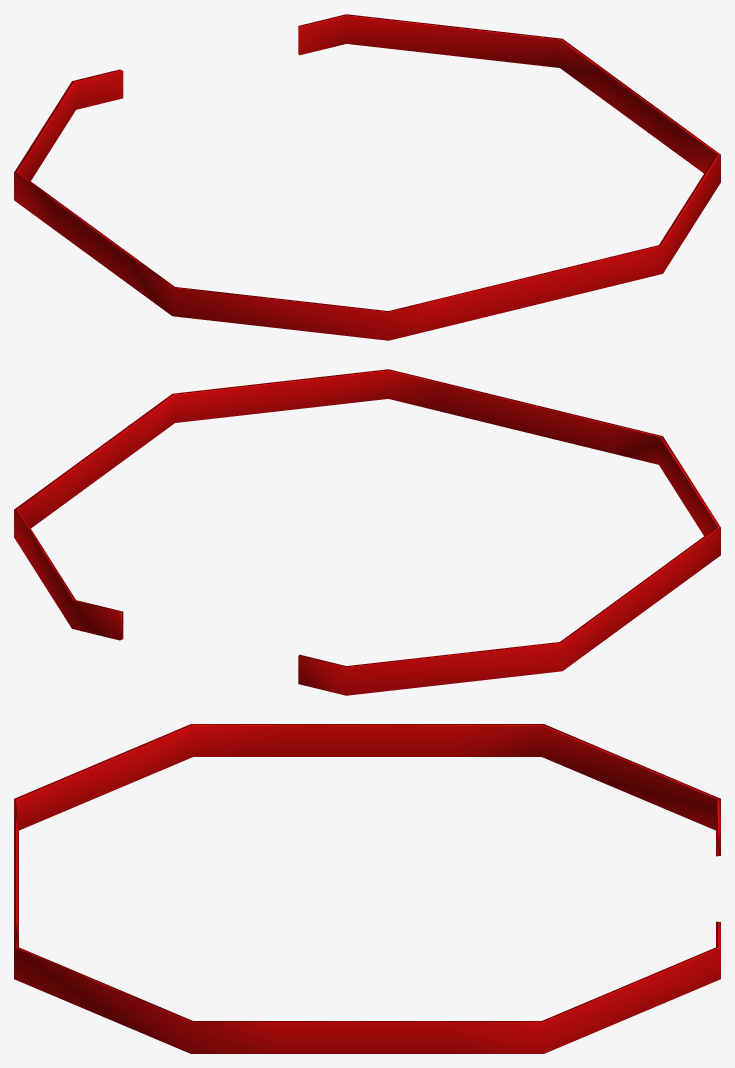
The model's file is Entrance_Lights.fbx.
3 views of the same model, one above another, from view 1: azimuth 30°, elevation 25°; view 2: azimuth 150°, elevation 25°; view 3: azimuth 270°, elevation 25° (orthographic). The views are drawn at different scales.
Visible parts, largest first — view 1: Entrance_Lights; view 2: Entrance_Lights; view 3: Entrance_Lights.
Part boxes in pixels (x1,y1,x2,y2): Entrance_Lights: (14, 14, 720, 340); Entrance_Lights: (14, 369, 720, 695); Entrance_Lights: (14, 724, 720, 1053).
Bounding box in the file's own units: 0.0792 × 0.00383 × 0.0792.
